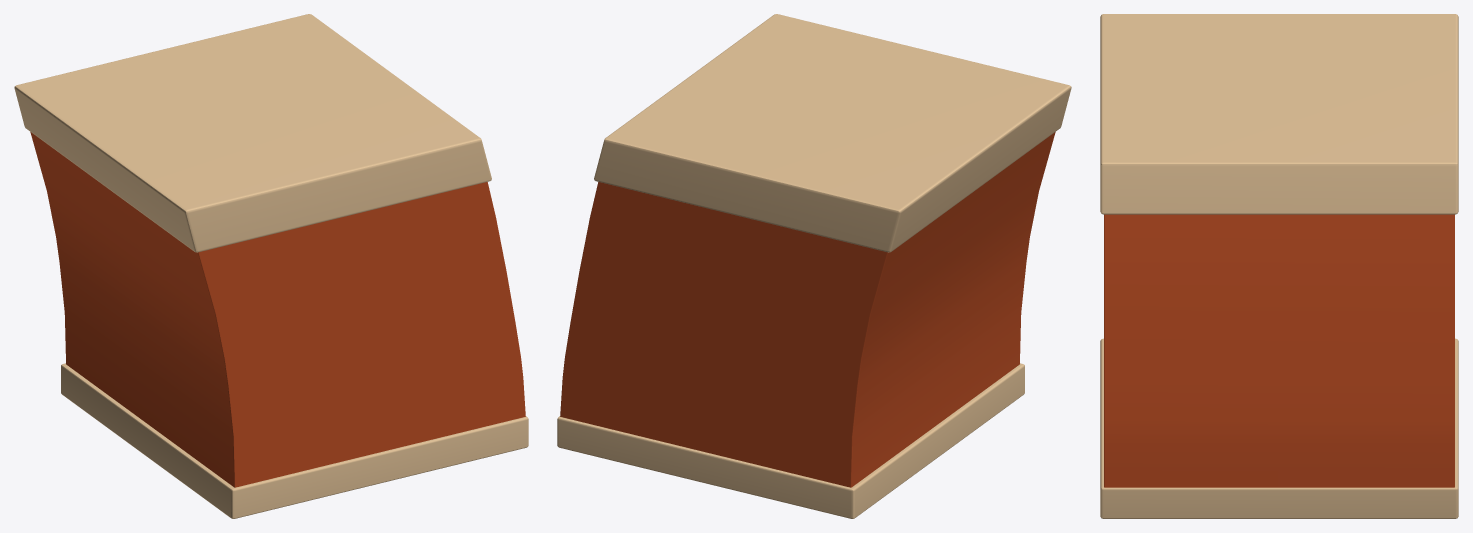
Rendered from Mesh_EDH_Building1.fbx.
3 renders of one model, left to right at view 1: azimuth 30°, elevation 25°; view 2: azimuth 150°, elevation 25°; view 3: azimuth 270°, elevation 25°, orthographic. The views are drawn at different scales.
Parts seen in each view (by area): view 1: polySurface120; view 2: polySurface120; view 3: polySurface120.
Part boxes in pixels (left/top/right/bottom): polySurface120: left=14, top=14, right=528, bottom=518; polySurface120: left=557, top=14, right=1071, bottom=518; polySurface120: left=1100, top=14, right=1458, bottom=518.
Size of the model in its own units: 188 by 167 by 163.
